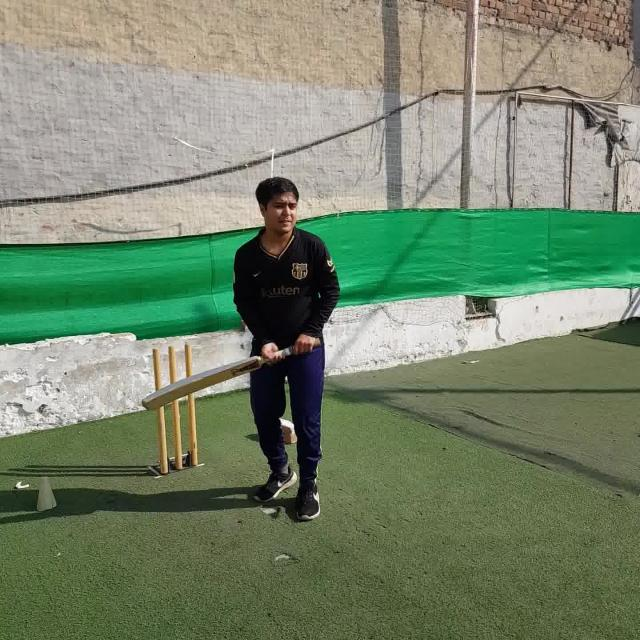bat: (141, 337, 322, 411)
